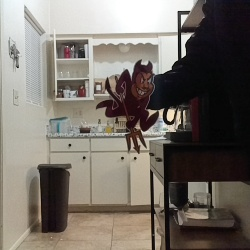sparky: (94, 58, 159, 154)
